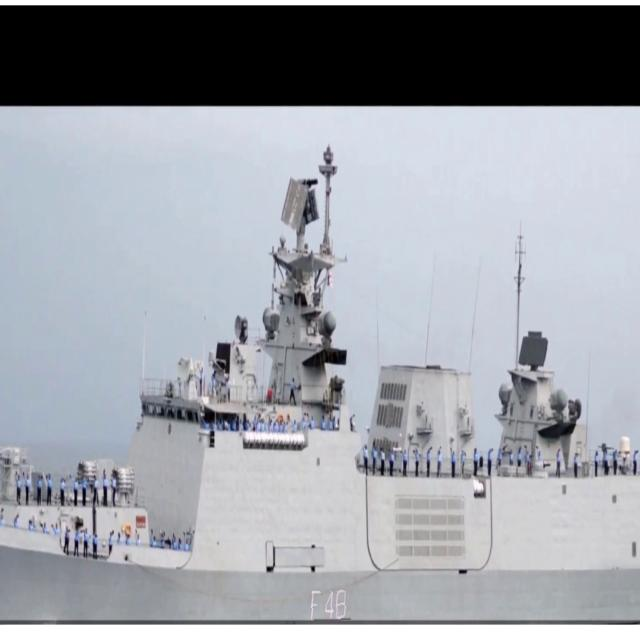OCR: (298, 585, 351, 622)
